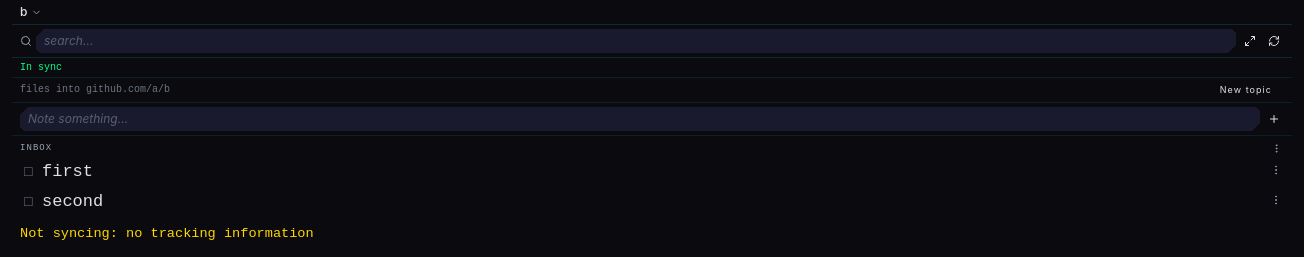
Test: managing what is in the list › keeps a move inside the project you are in
Expected: the text "first" is shown, [42,162,93,181]
What coordinates should you click on to do the following:
click the button named "Actions for first"
I would click on:
 (1276, 170)
Its box is [1268,164,1284,176].
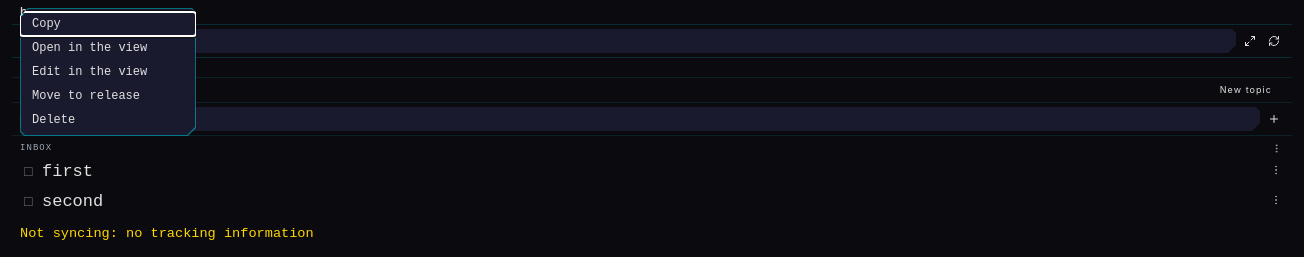
Now the menu item "Move to release" is shown, box [20,84,196,108]
